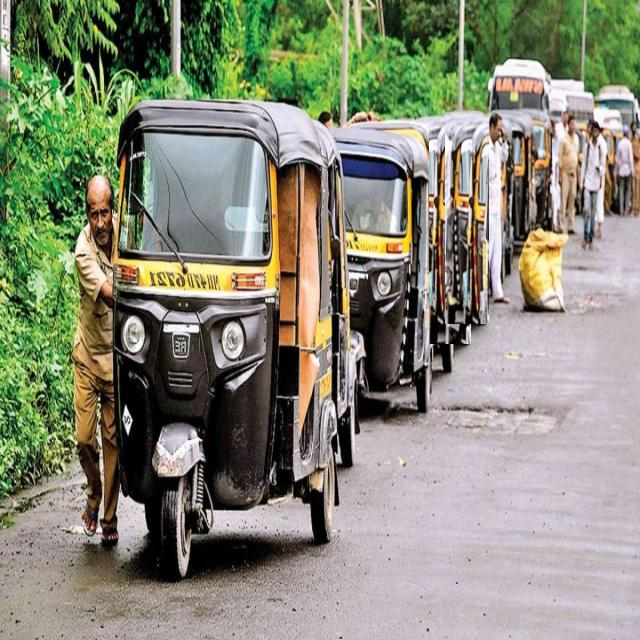autorickshaw: (114, 100, 365, 576), (332, 127, 434, 409), (445, 111, 489, 324), (429, 118, 470, 344), (503, 111, 536, 242), (531, 111, 552, 229)
bus: (489, 58, 550, 111)
